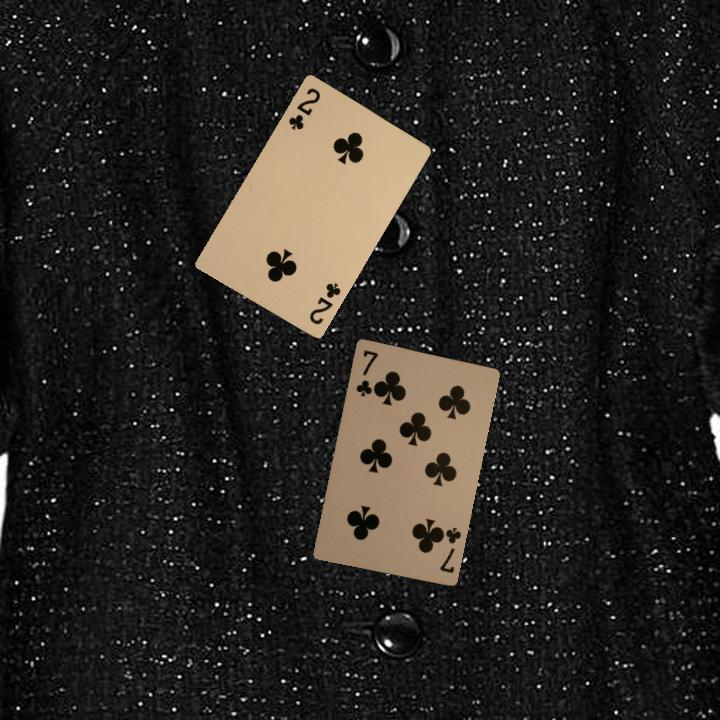2c: (284, 84, 323, 133), (305, 279, 343, 327)
7c: (352, 346, 381, 399), (435, 523, 464, 576)
